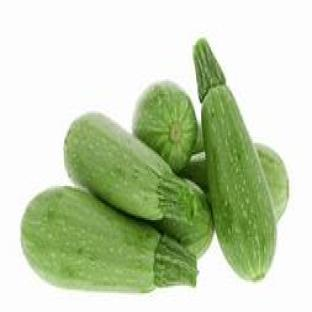Zucchini: (194, 40, 276, 280), (65, 113, 210, 248), (21, 187, 197, 291), (132, 81, 197, 172), (156, 181, 214, 257), (256, 143, 288, 219)
